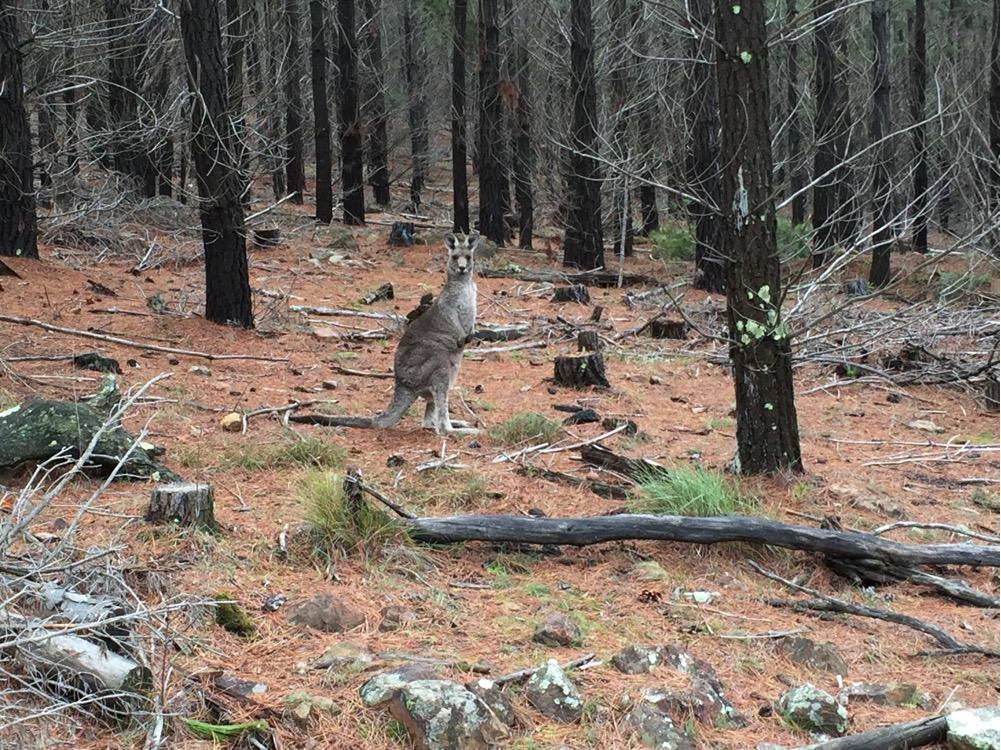Eastern grey kangaroo: (287, 230, 490, 440)
